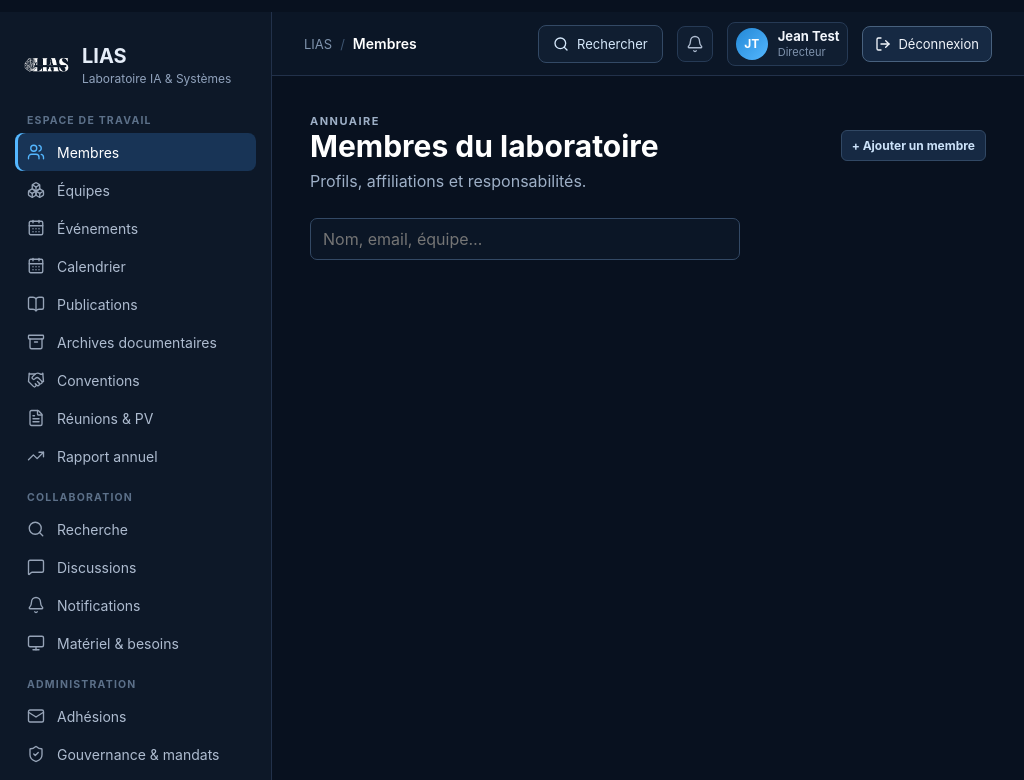
Test case: Navigation et session › ouvre Gouvernance & mandats et permet de revenir aux notifications
This screenshot has width=1024, height=780.
Click the button "Gouvernance & mandats". click: click(136, 754)
box: [15,735,256,773]
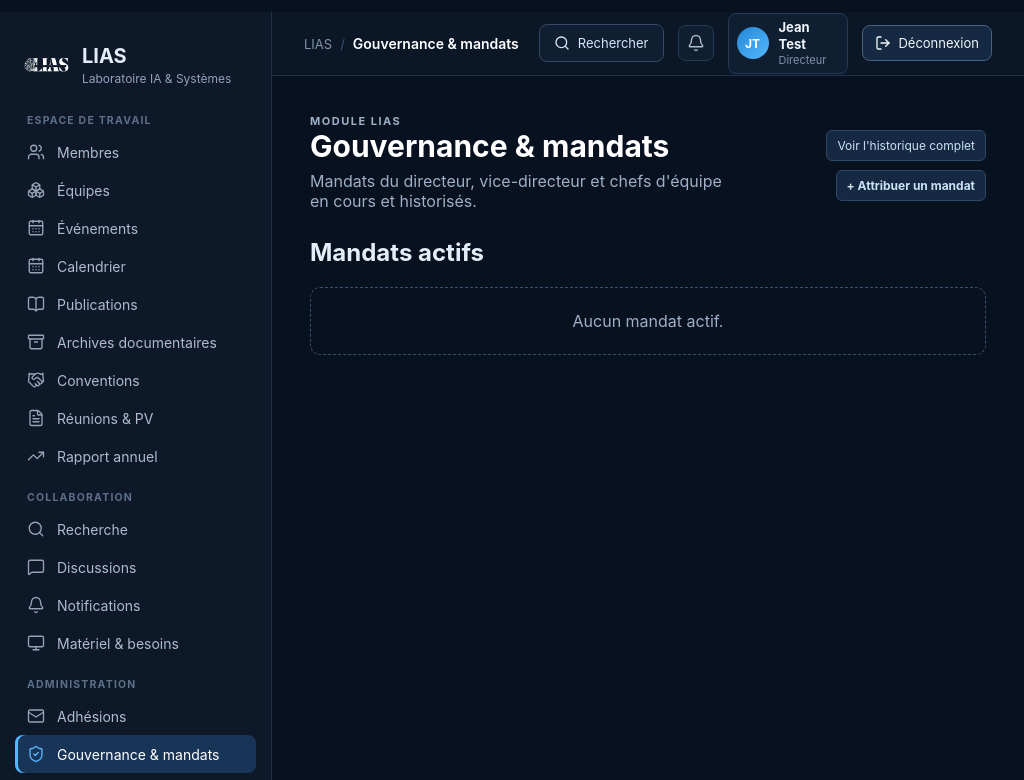
Expected: the heading "Gouvernance & mandats" is shown, [310,128,731,164]
Click the button "Notifications". click: click(136, 605)
box: [15,586,256,624]
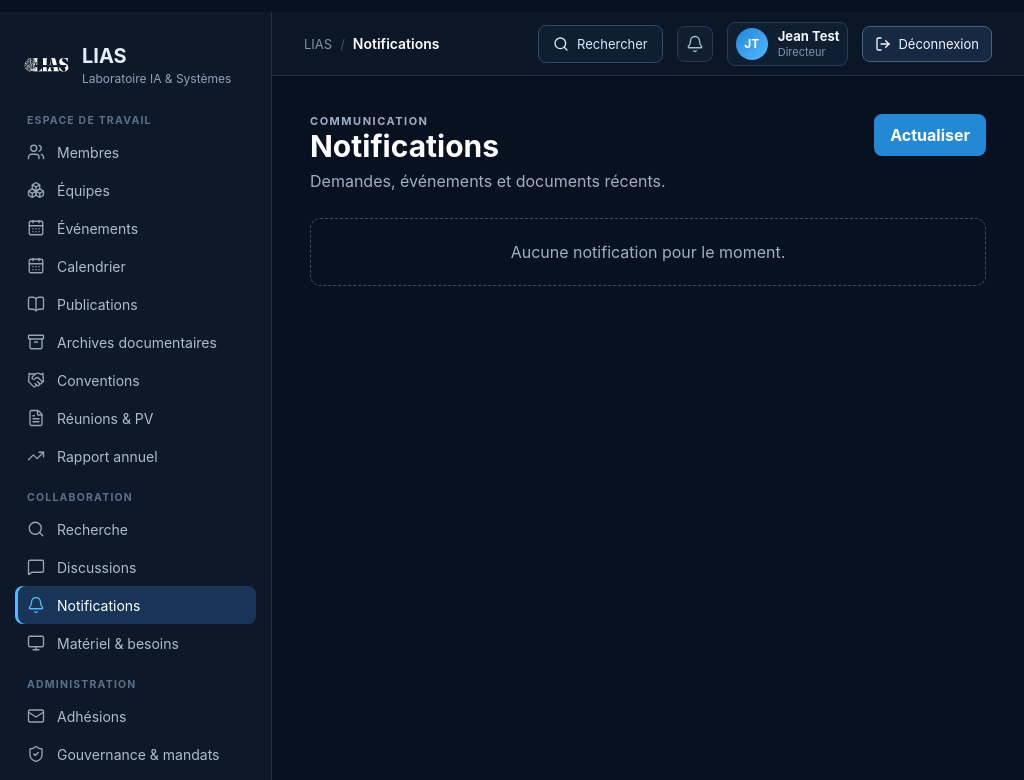
Expected: the text "Aucune notification pour le moment." is shown, [310,218,986,286]
